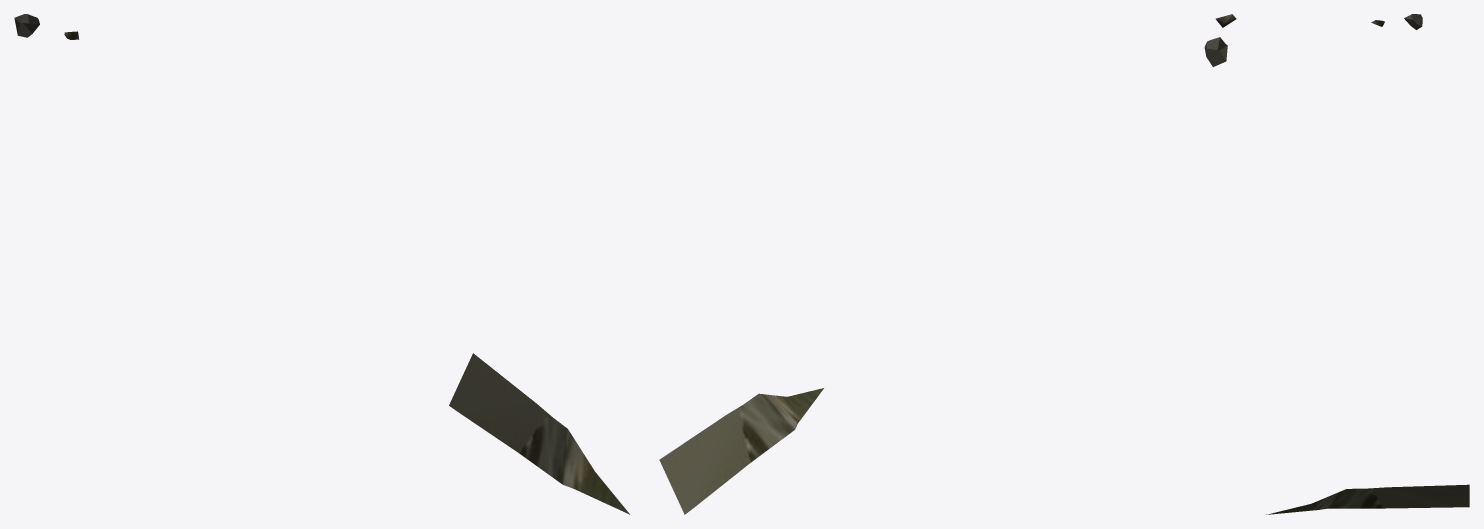
3 renders of one model, left to right at view 1: azimuth 30°, elevation 25°; view 2: azimuth 150°, elevation 25°; view 3: azimuth 270°, elevation 25°, orthographic. The views are drawn at different scales.
Size of the model in its own units: 2.9 by 2.95 by 1.59.
1 material, 1 textured.
